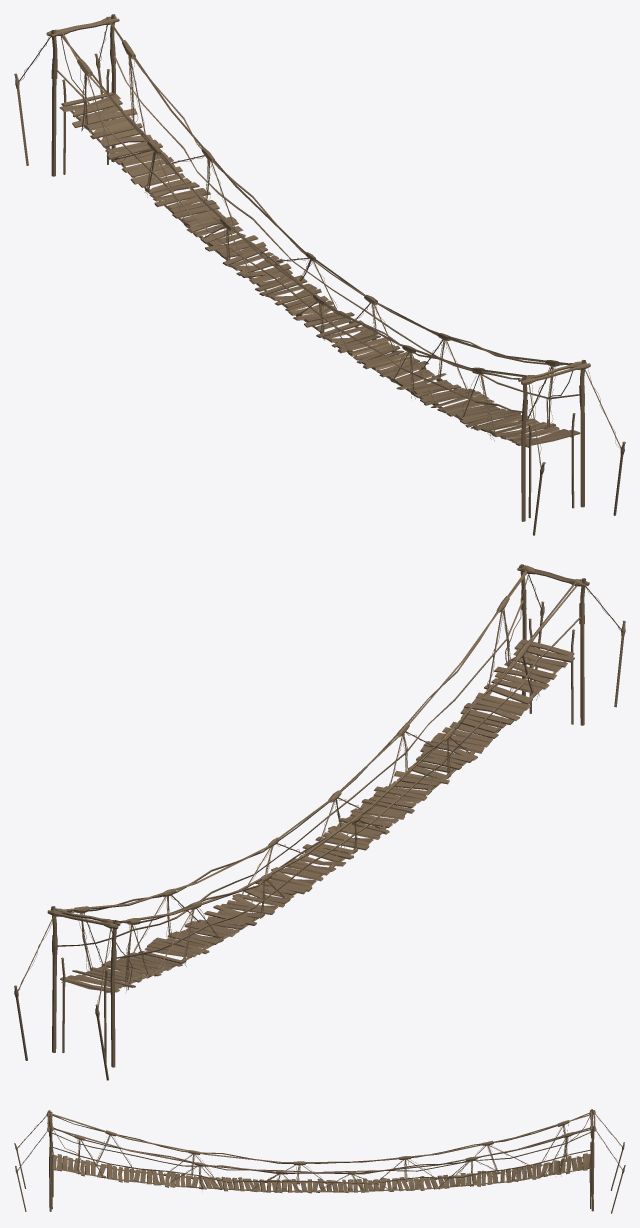
3 renders of one model, top to bottom at view 1: azimuth 30°, elevation 25°; view 2: azimuth 150°, elevation 25°; view 3: azimuth 270°, elevation 25°, orthographic. The views are drawn at different scales.
Visible parts, largest first — view 1: Mesh1_Wood__Floor_0; view 2: Mesh1_Wood__Floor_0; view 3: Mesh1_Wood__Floor_0.
Part boxes in pixels (x1,y1,x2,y2): Mesh1_Wood__Floor_0: [14, 14, 625, 535]; Mesh1_Wood__Floor_0: [14, 564, 625, 1080]; Mesh1_Wood__Floor_0: [14, 1109, 625, 1213].
Bounding box in the file's own units: 5.23 × 8.53 × 55.72.
